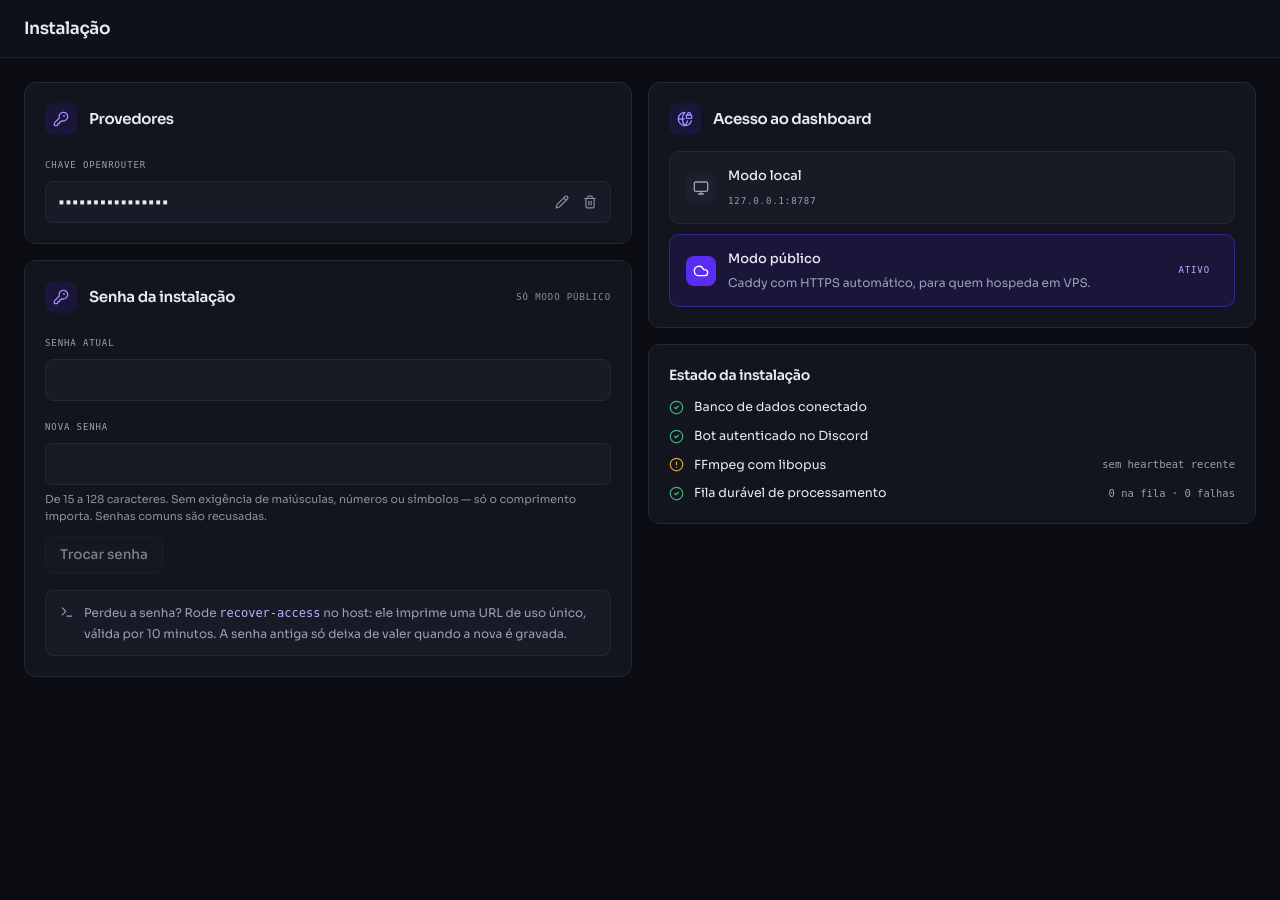
Test: InstallationPage › tells when the current password does not match
The width and height of the screenshot is (1280, 900).
Step 1. Type "senha antiga bem longa" into the password field labelled "Senha atual" → (328, 380), box [45, 359, 611, 401]
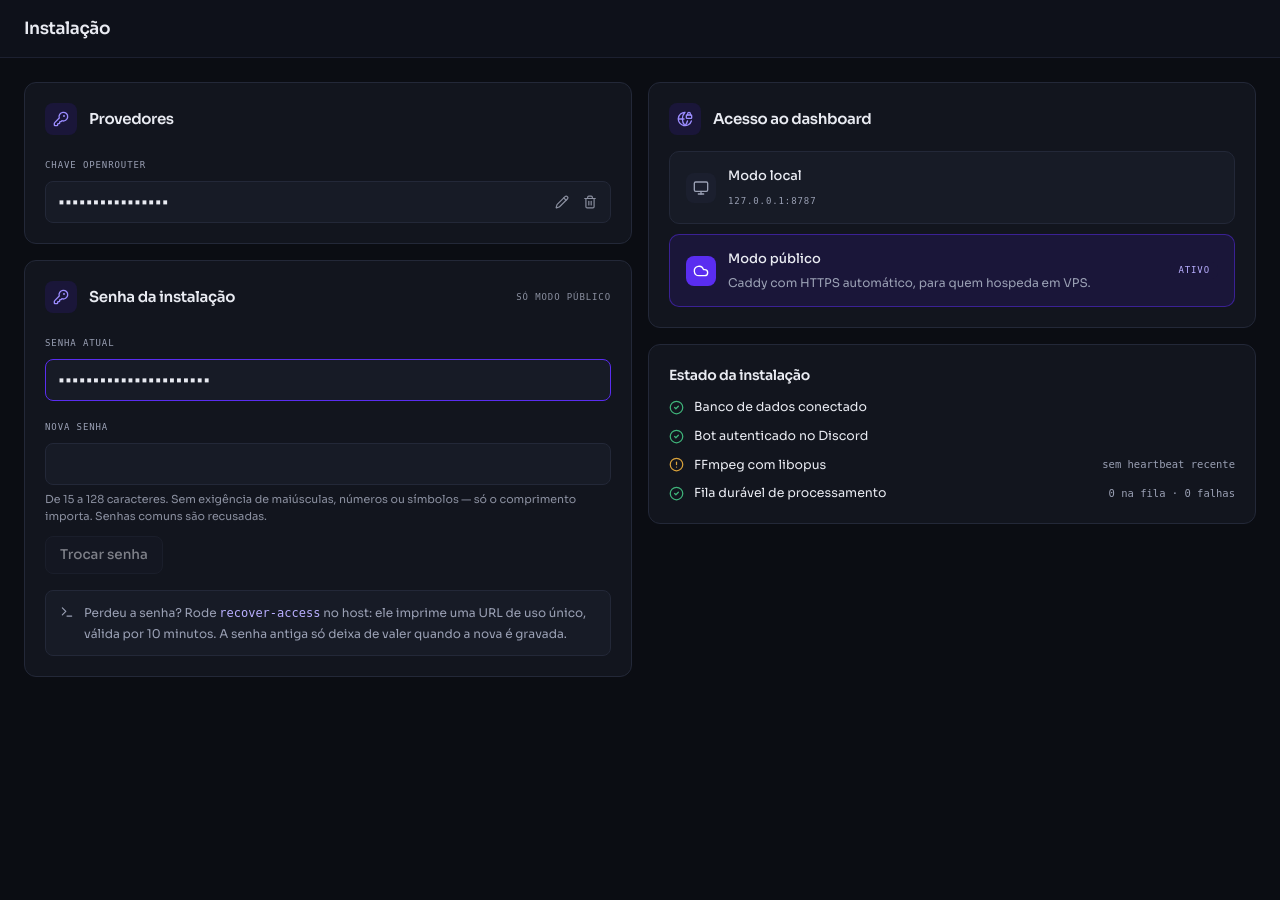
Step 2. Type "senha nova ainda mais longa" into the password field labelled "Nova senha" → (328, 464), box [45, 443, 611, 485]
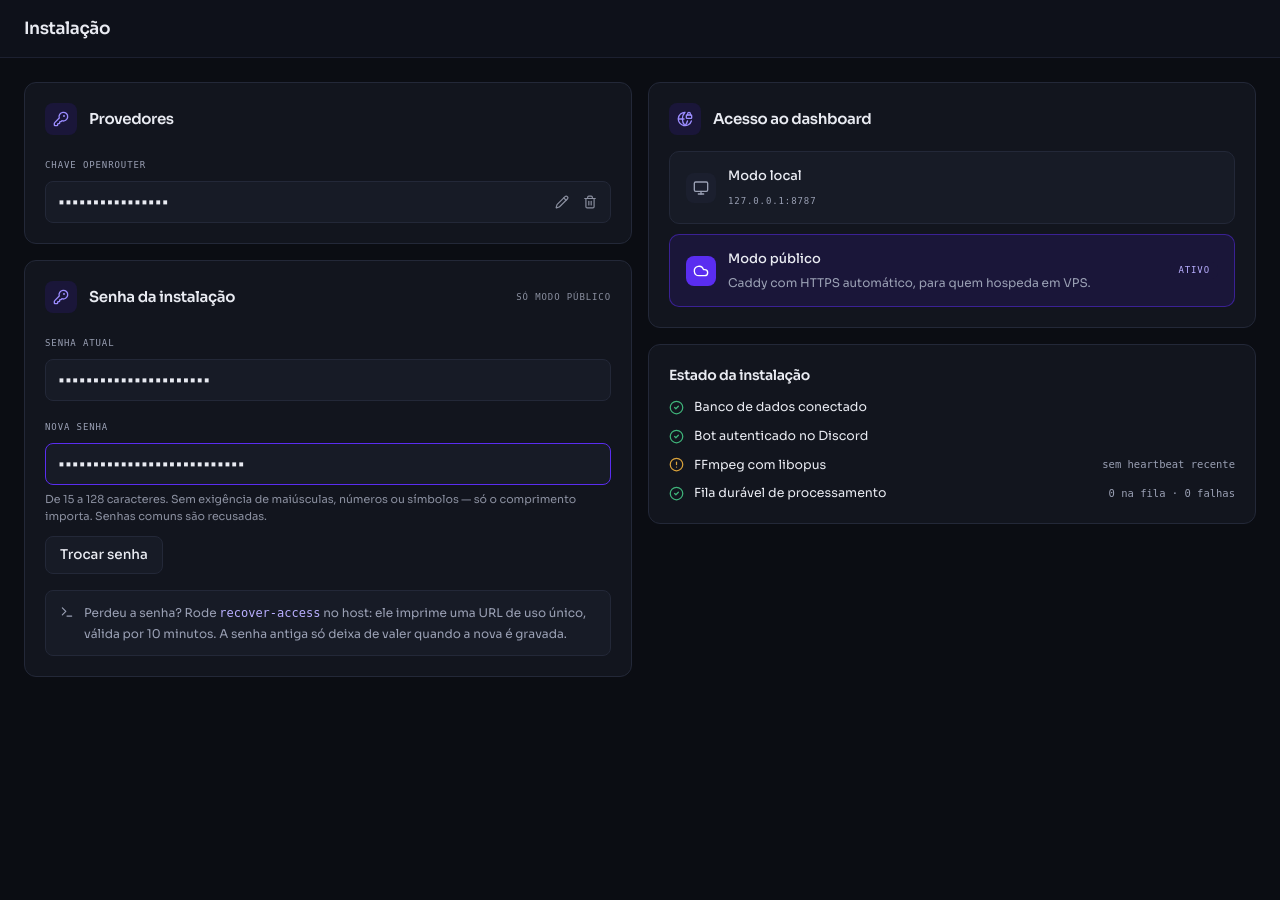
Step 3. Click the button "Trocar senha" → (104, 555), box [45, 536, 163, 574]
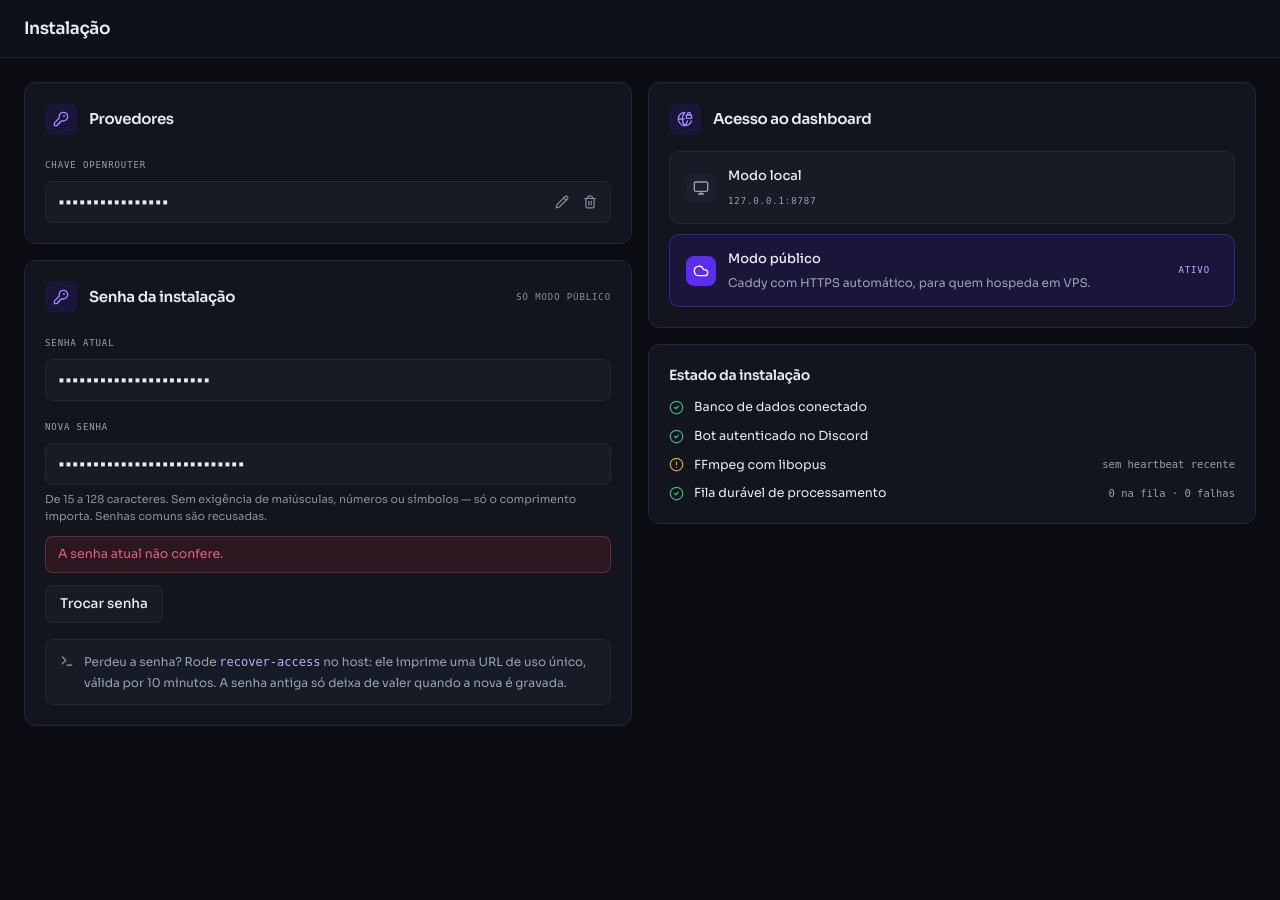
Expected: the message shows "A senha atual não confere", [58, 546, 223, 562]
